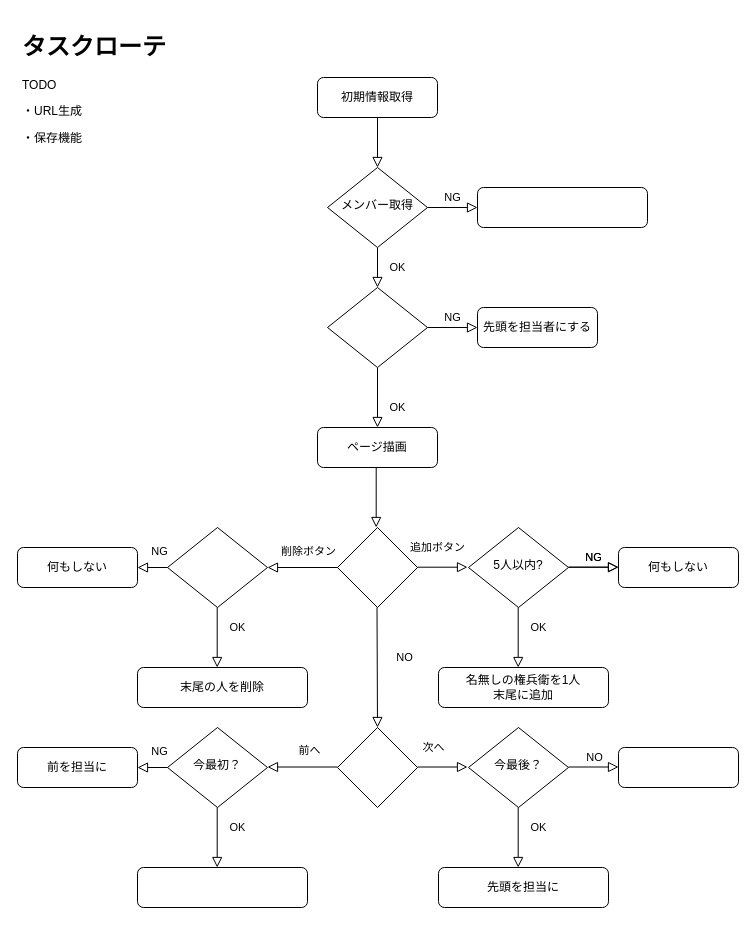
This 756x925 diagram has some shape labels left out. Here are the shapes that lost their labels. From the top down, the centre of each, then its label:
At [562,207]: "名無しの権兵衛を３人作成".
At [377,327]: "担当取得".
At [217,567]: "2人以上?".
At [377,567]: "メンバー 操作?".
At [377,767]: "担当操作".
At [678,767]: "次を担当に".
At [222,887]: "最後を担当に".
